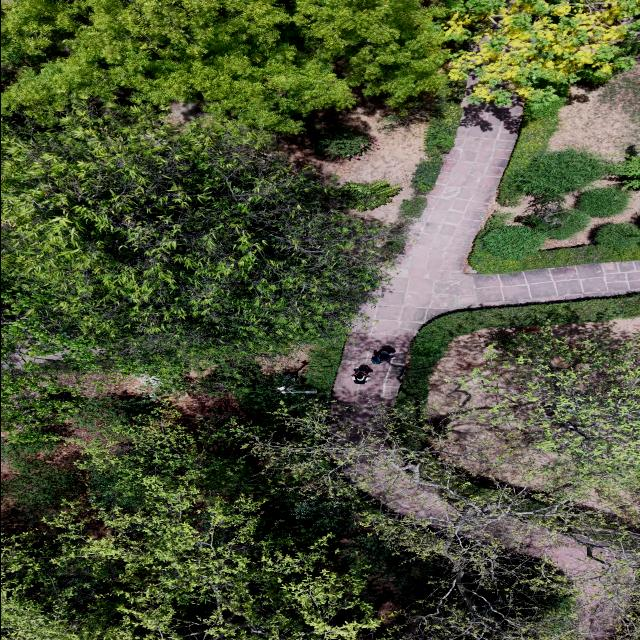DRY_AREA: (335, 106, 639, 433), (334, 104, 522, 421), (428, 327, 639, 522), (465, 518, 632, 639), (280, 98, 426, 224), (492, 520, 619, 639), (334, 114, 426, 224), (547, 65, 639, 163), (549, 65, 639, 162), (543, 191, 639, 249), (58, 373, 155, 398), (257, 345, 313, 374)
PATHWAYS: (334, 104, 639, 437), (334, 104, 639, 420)
VEGETATION_TREE: (1, 0, 639, 639), (1, 2, 443, 637), (1, 0, 462, 375), (1, 0, 446, 378), (1, 0, 451, 372), (1, 395, 637, 639), (3, 395, 637, 639), (252, 296, 639, 639), (1, 372, 379, 638), (1, 114, 382, 376), (1, 397, 380, 639), (253, 407, 638, 639), (1, 0, 639, 132), (1, 0, 448, 132), (395, 295, 639, 519), (1, 353, 331, 462), (460, 328, 639, 505), (469, 94, 639, 273), (398, 295, 639, 406), (469, 150, 639, 273), (444, 0, 639, 105), (184, 337, 344, 432), (400, 81, 464, 220), (1, 363, 82, 458), (498, 96, 566, 206), (412, 82, 464, 194), (1, 458, 86, 523), (469, 244, 639, 274), (511, 149, 613, 197), (74, 395, 162, 438), (380, 81, 451, 132), (305, 332, 346, 398), (424, 91, 462, 159), (520, 203, 589, 239), (479, 226, 546, 259), (601, 72, 639, 121), (339, 181, 400, 211), (314, 128, 373, 159), (576, 186, 629, 217), (596, 223, 639, 250), (412, 157, 442, 194), (617, 155, 639, 190), (400, 196, 426, 220)
